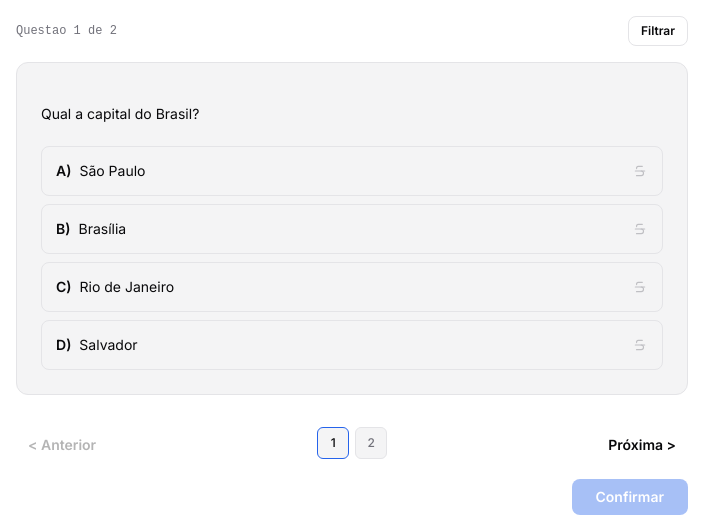
Scenario: QuestionsTab › advances to next question after clicking Proxima
Click the button "B)Brasília": (102, 228) [41,204,663,254]
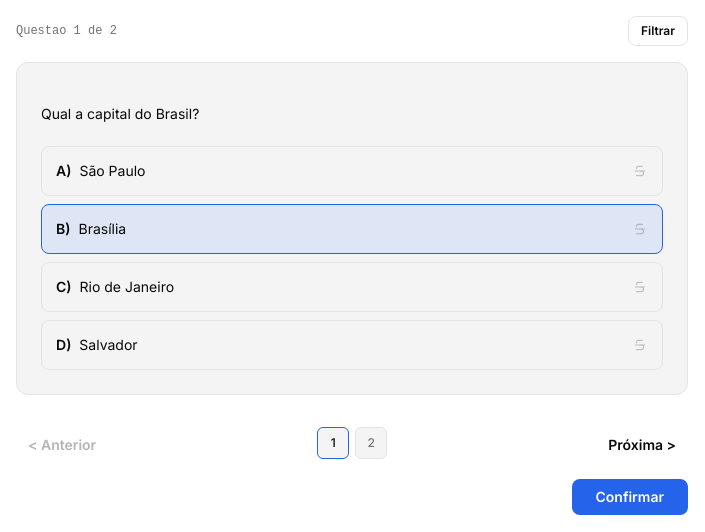
Click the button "Confirmar": (630, 497) [572,479,688,515]
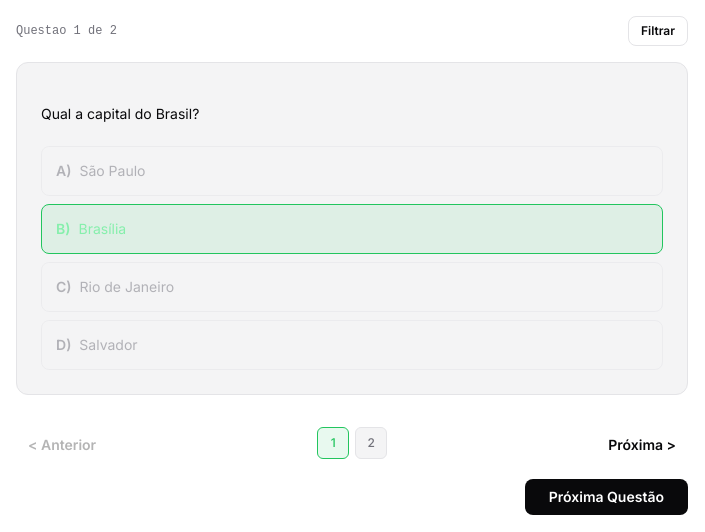
Expected: the button "Próxima Questão" is shown
Click the button "Próxima Questão": (606, 497) [525,479,688,515]
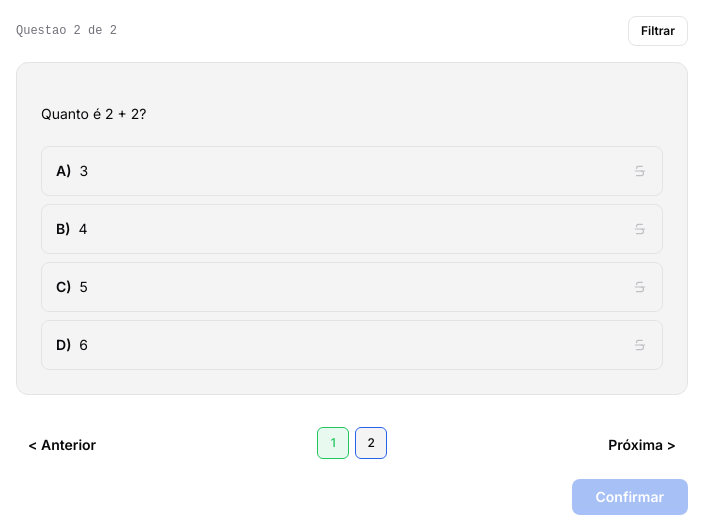
Expected: the text "Quanto é 2 + 2?" is shown, [41,105,146,122]
Expected: the text "Questao 2 de 2" is shown, [16,23,117,39]
